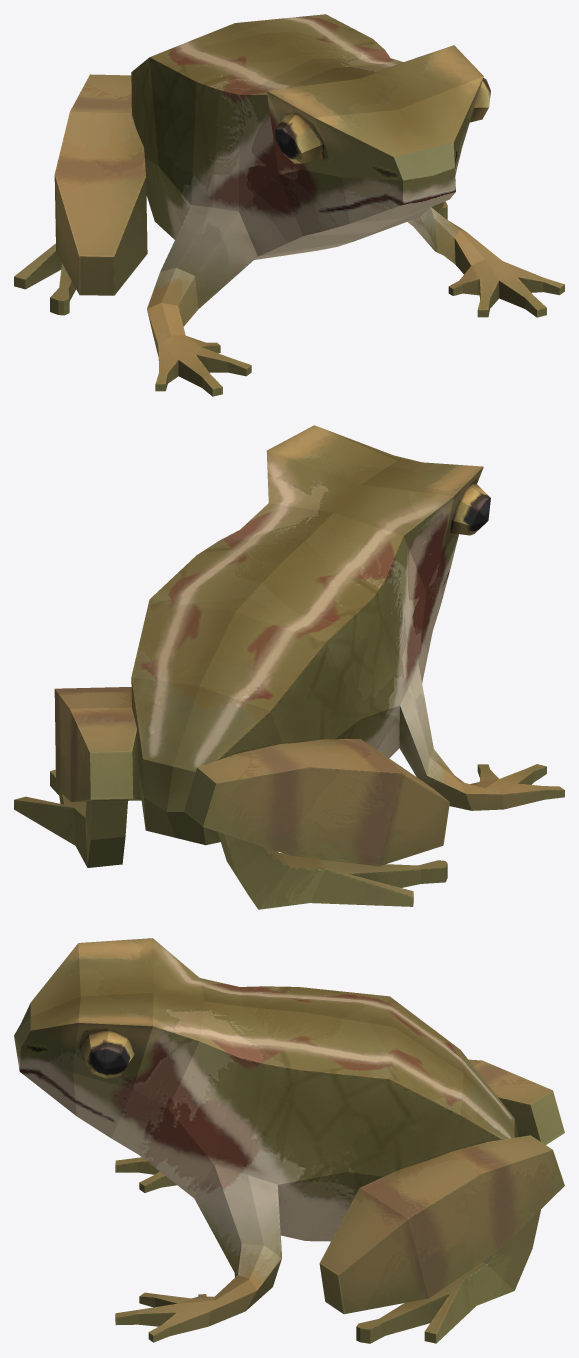
The model's file is Data Frog .fbx.
3 views of the same model, one above another, from view 1: azimuth 30°, elevation 25°; view 2: azimuth 150°, elevation 25°; view 3: azimuth 270°, elevation 25° (orthographic). The views are drawn at different scales.
Parts seen in each view (by area): view 1: DataForestFrog; view 2: DataForestFrog; view 3: DataForestFrog.
Boxes of the visible parts, x1,y1,x2,y2 form: DataForestFrog: (14,14,564,396); DataForestFrog: (14,425,564,909); DataForestFrog: (14,938,564,1343).
Size of the model in its own units: 73.69 by 47.84 by 88.99.
